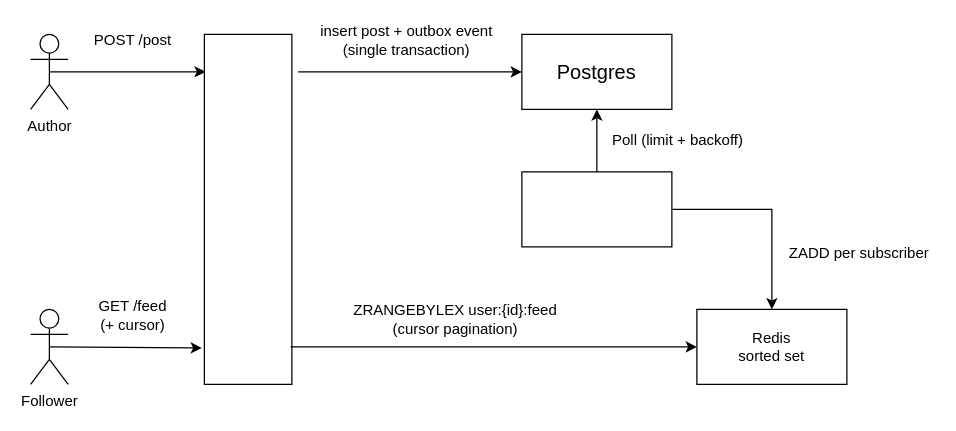
This 956x431 diagram has some shape labels left out. Here are the shapes that lost their labels. From the top down, the box of each, then its label:
(203, 33, 292, 384): API
(521, 171, 672, 247): Outbox processor (at-least-once)
